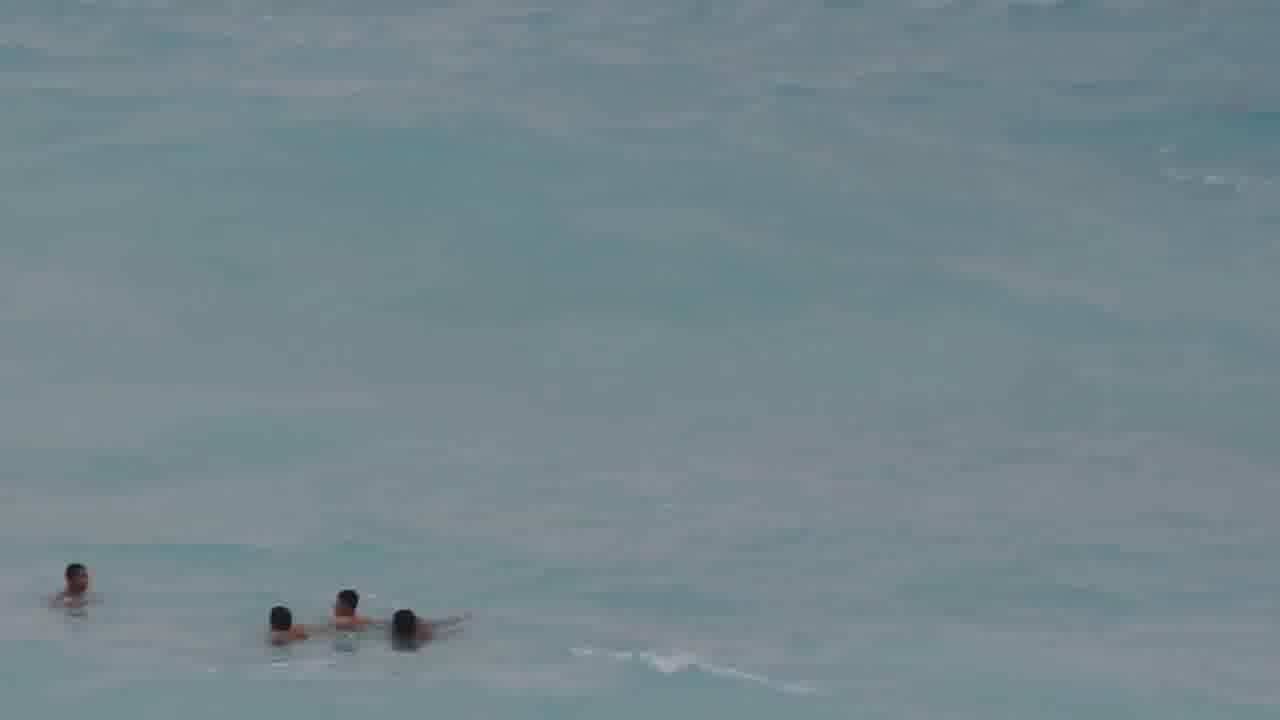human: (384, 593, 461, 646), (29, 553, 110, 602), (257, 596, 326, 643), (321, 582, 375, 625)
